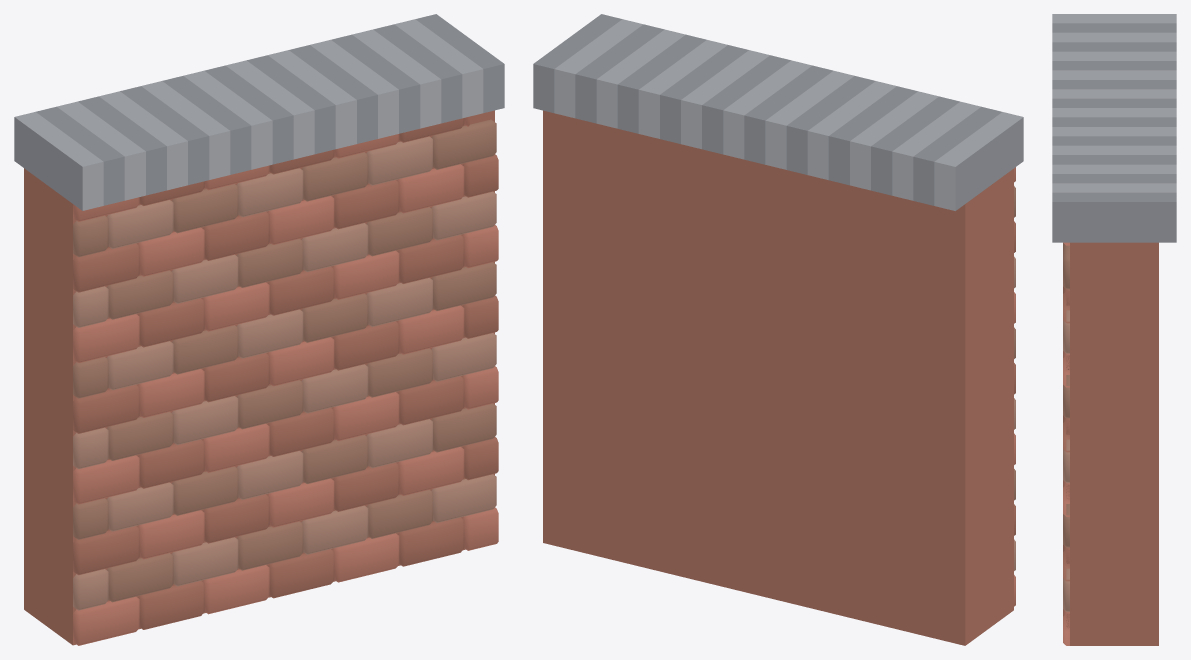
Rendered from wallHalf.glb.
3 renders of one model, left to right at view 1: azimuth 30°, elevation 25°; view 2: azimuth 150°, elevation 25°; view 3: azimuth 270°, elevation 25°, orthographic. The views are drawn at different scales.
Parts seen in each view (by area): view 1: wallHalf.006; view 2: wallHalf.006; view 3: wallHalf.006.
Boxes of the visible parts, left/top/right/bottom form: wallHalf.006: left=14, top=14, right=504, bottom=645; wallHalf.006: left=533, top=14, right=1023, bottom=645; wallHalf.006: left=1052, top=14, right=1176, bottom=645.
Bounding box in the file's own units: 5 × 5.5 × 1.4.
